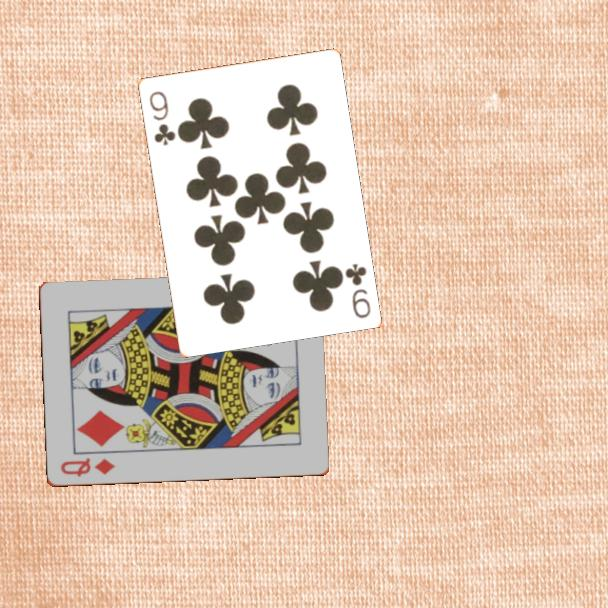c09: (146, 87, 178, 148), (341, 260, 373, 321)
d12: (57, 455, 118, 480)
